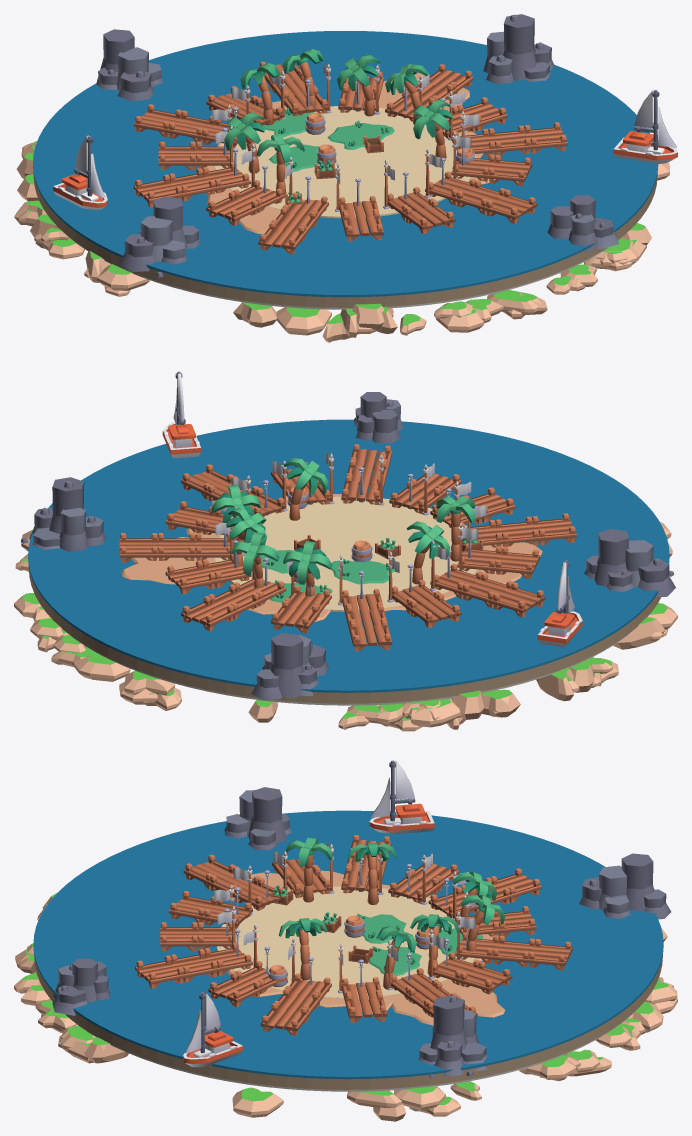
Rendered from harbor.glb.
The picture shows the model from 3 angles, top to bottom: view 1: azimuth 30°, elevation 25°; view 2: azimuth 150°, elevation 25°; view 3: azimuth 270°, elevation 25°; orthographic projection. The views are drawn at different scales.
Visible parts, largest first — view 1: water-sea, flat-sand, cyl.001, rocks-a.001, rocks-b.001, rocks-a.002, rocks-c.001, boat-sail-a.001, palm-detailed-bend.005, rock_largeC.017, sail.001, palm-detailed-bend.003 (+54 smaller); view 2: water-sea, flat-sand, cyl.001, rocks-a.001, rocks-b.001, rocks-a.002, rocks-c.001, palm-detailed-bend.002, patch-sand.008, palm-detailed-bend.005, palm-detailed-bend.001, cyl.002 (+48 smaller); view 3: water-sea, flat-sand, cyl.001, rocks-a.002, rocks-b.001, rocks-a.001, rocks-c.001, patch-sand.008, boat-sail-a.002, boat-sail-a.001, sail.002, cyl.002 (+47 smaller).
Part boxes in pixels (left/top/right/bottom): water-sea: left=33, top=31, right=658, bottom=297; flat-sand: left=215, top=106, right=476, bottom=218; cyl.001: left=33, top=174, right=657, bottom=307; rocks-a.001: left=118, top=196, right=200, bottom=277; rocks-b.001: left=483, top=14, right=554, bottom=84; rocks-a.002: left=96, top=29, right=163, bottom=101; rocks-c.001: left=547, top=195, right=618, bottom=252; boat-sail-a.001: left=613, top=131, right=677, bottom=163; palm-detailed-bend.005: left=413, top=99, right=452, bottom=158; rock_largeC.017: left=276, top=307, right=331, bottom=335; sail.001: left=634, top=90, right=676, bottom=150; palm-detailed-bend.003: left=337, top=55, right=380, bottom=116; water-sea: left=28, top=419, right=669, bottom=692; flat-sand: left=215, top=496, right=482, bottom=611; cyl.001: left=28, top=567, right=660, bottom=703; rocks-a.001: left=584, top=528, right=675, bottom=597; rocks-b.001: left=21, top=477, right=106, bottom=551; rocks-a.002: left=251, top=633, right=328, bottom=699; rocks-c.001: left=354, top=392, right=403, bottom=443; palm-detailed-bend.002: left=283, top=541, right=332, bottom=596; patch-sand.008: left=121, top=537, right=215, bottom=584; palm-detailed-bend.005: left=283, top=458, right=328, bottom=520; palm-detailed-bend.001: left=406, top=521, right=450, bottom=584; cyl.002: left=63, top=629, right=632, bottom=705; water-sea: left=33, top=810, right=663, bottom=1079; flat-sand: left=216, top=886, right=474, bottom=997; cyl.001: left=34, top=955, right=662, bottom=1089; rocks-a.002: left=579, top=853, right=671, bottom=919; rocks-b.001: left=418, top=995, right=487, bottom=1078; rocks-a.001: left=218, top=787, right=291, bottom=850; rocks-c.001: left=52, top=958, right=110, bottom=1015; patch-sand.008: left=391, top=979, right=505, bottom=1025; boat-sail-a.002: left=369, top=803, right=434, bottom=834; boat-sail-a.001: left=183, top=1031, right=242, bottom=1067; sail.002: left=370, top=760, right=415, bottom=821; cyl.002: left=68, top=1017, right=628, bottom=1091.
Bounding box in the file's own units: 71.02 × 15.28 × 71.65.
Materials: 43 (15 with a texture image).
